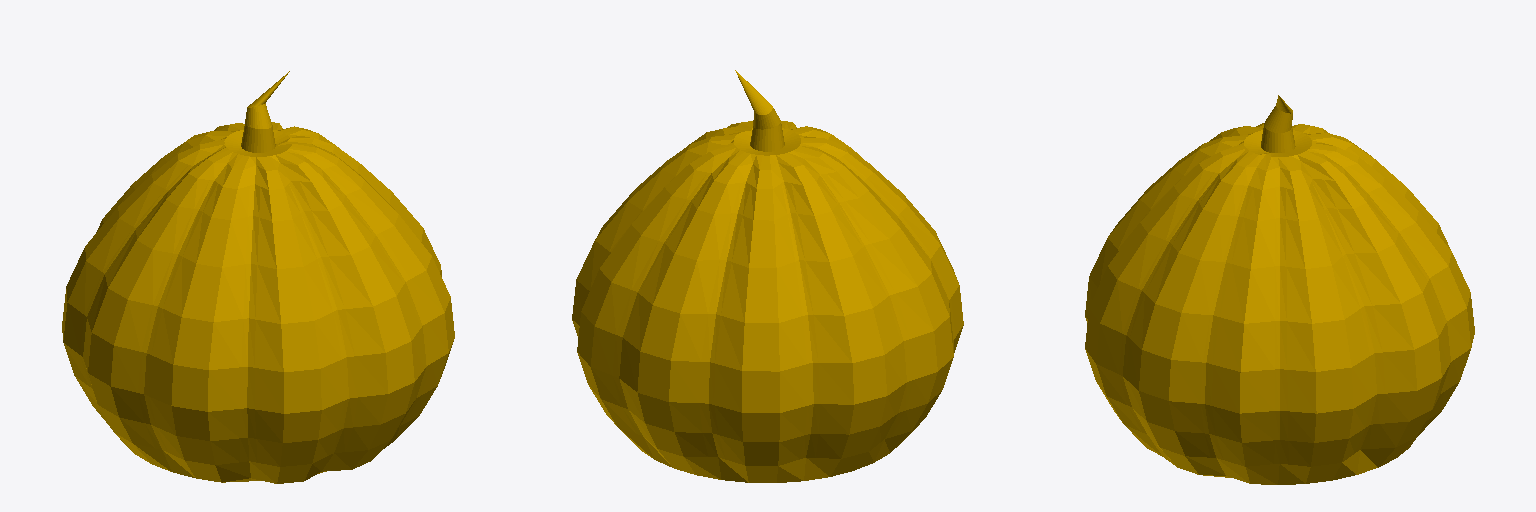
The model's file is kusama_pumpkin.obj.
The picture shows the model from 3 angles: view 1: azimuth 30°, elevation 25°; view 2: azimuth 150°, elevation 25°; view 3: azimuth 270°, elevation 25°; orthographic projection.
Visible parts, largest first — view 1: Sphere; view 2: Sphere; view 3: Sphere.
Part boxes in pixels (left/top/right/bottom): Sphere: left=62, top=71, right=454, bottom=483; Sphere: left=572, top=70, right=963, bottom=482; Sphere: left=1085, top=95, right=1474, bottom=484.
Size of the model in its own units: 3.78 by 3.8 by 3.78.